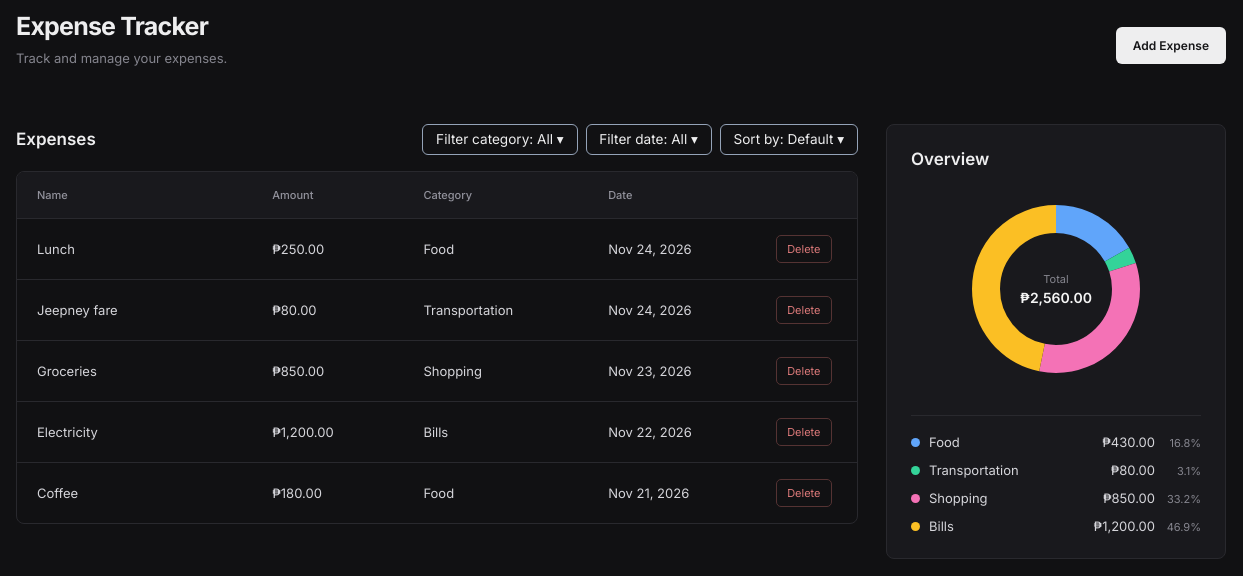
Scenario: ExpenseTracker App › cancels an edit when Escape is pressed
Click the text "Lunch": (135, 249) [17,218,252,279]
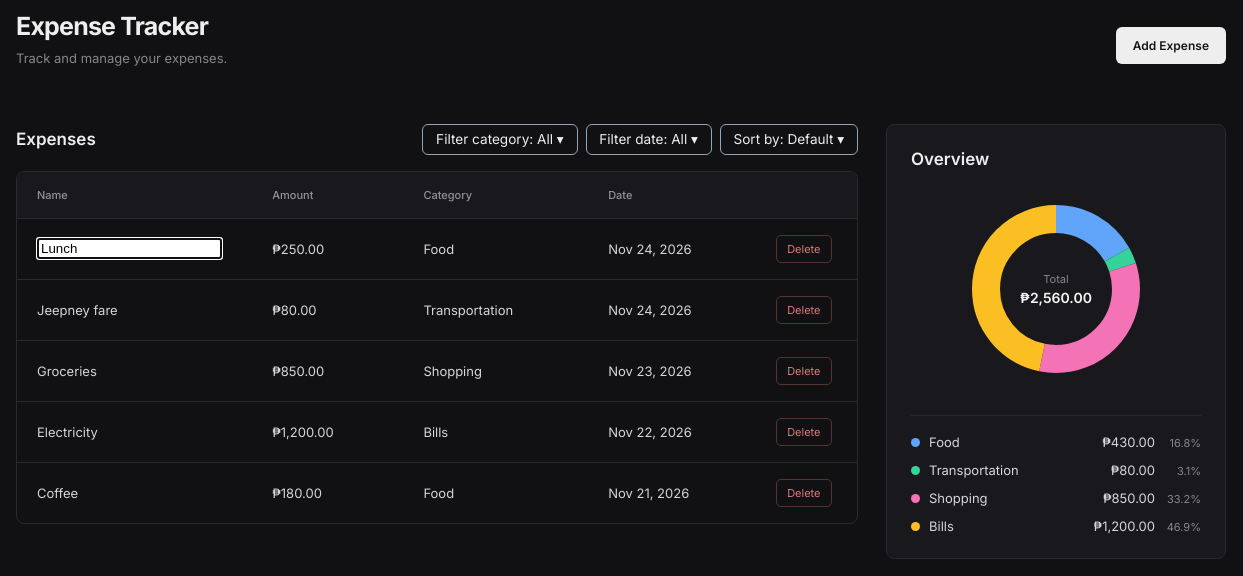
Replace the text in the field showing "Lunch" with "Changed Name": (130, 249) [37,238,222,259]
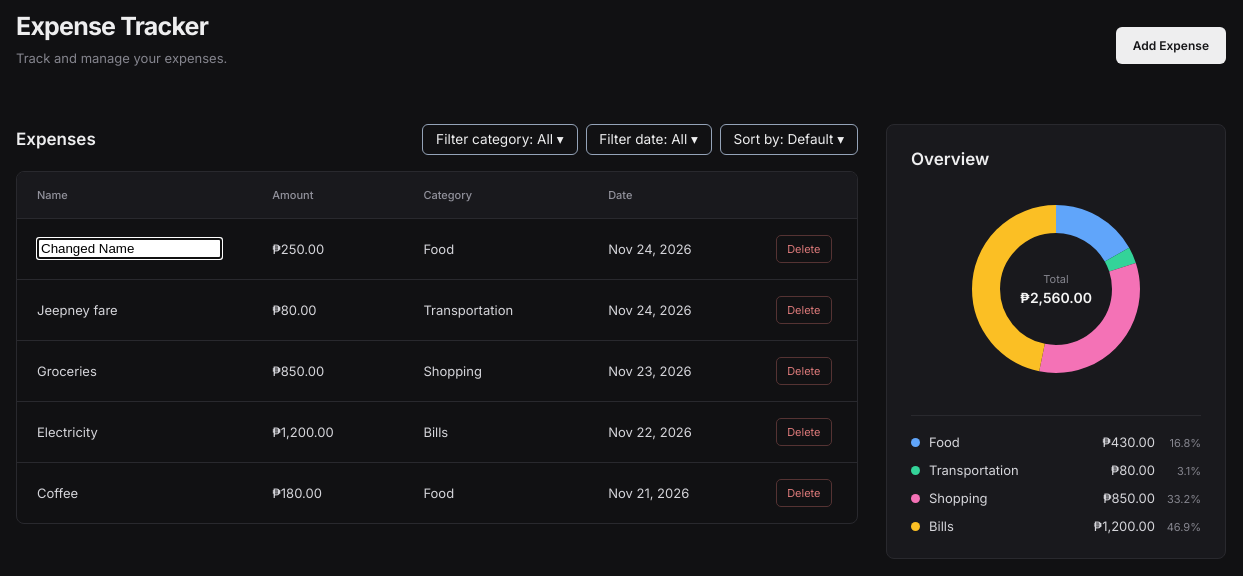
Press Escape in the field showing "Lunch", box [37,238,222,259]
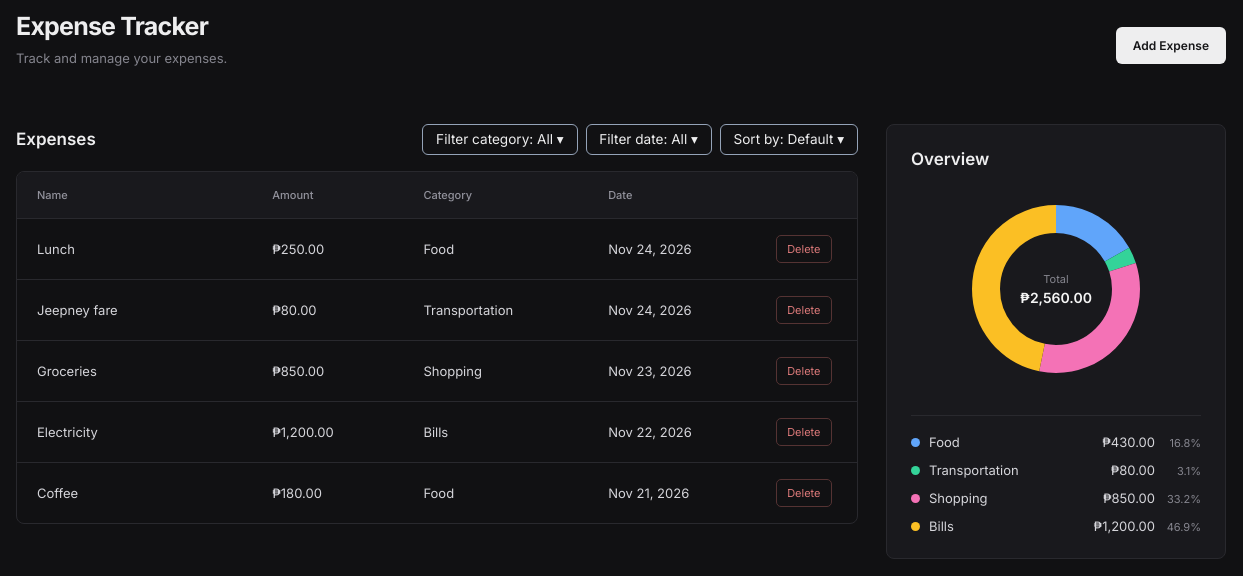
Expected: the text "Changed Name" is not shown
Now the text "Lunch" is shown, box [17,218,252,279]
